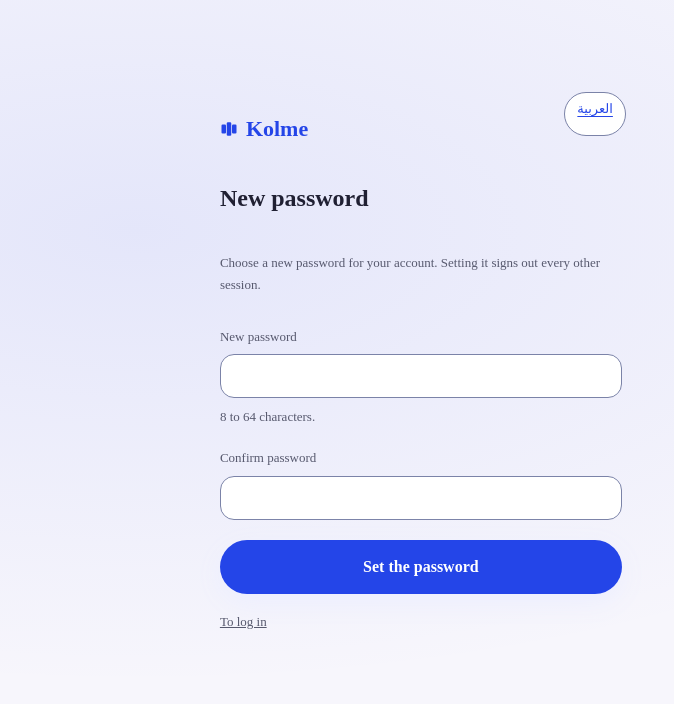
it: ResetPasswordScreen › reads a 400 as an invalid or expired link
This screenshot has width=674, height=704.
Type "longpassword1" into the password field labelled "New password" at (421, 376), box [220,354,622,398]
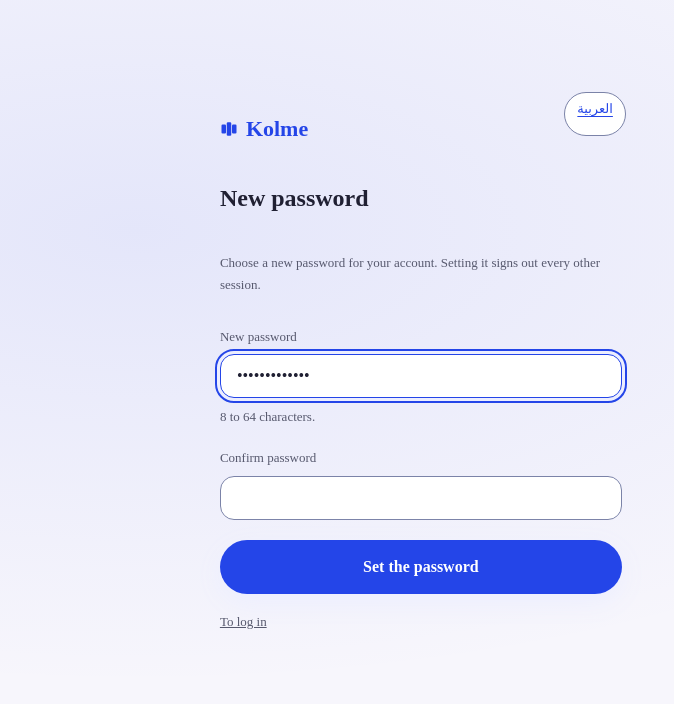
Type "longpassword1" into the password field labelled "Confirm password" at (421, 498), box [220,476,622,520]
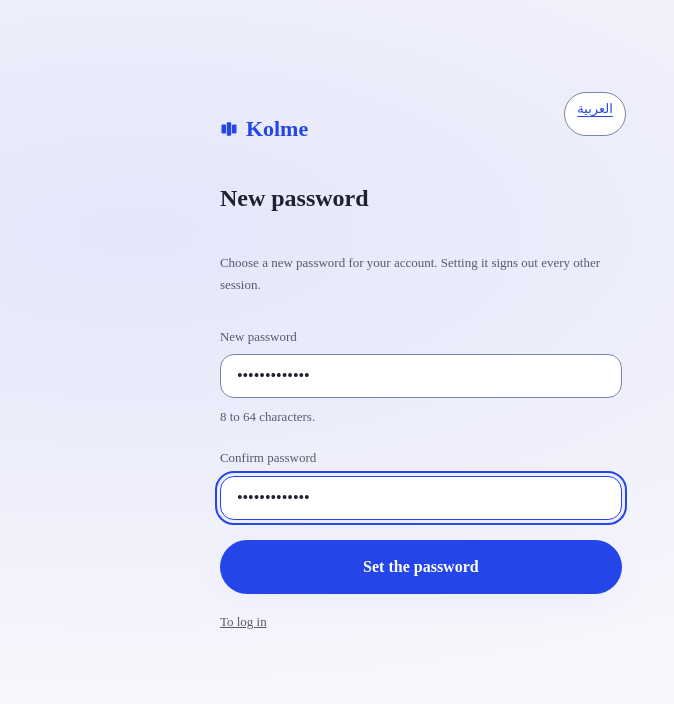
Click the button "Set the password" at (421, 567), box [220,540,622,594]
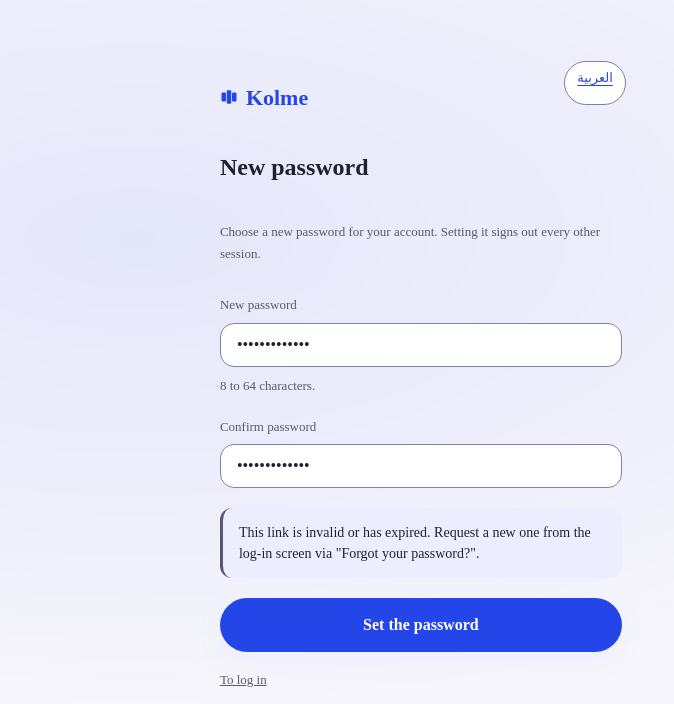
Expected: the button "Set the password" is shown, [220,598,622,652]
Now the message shows "invalid or has expired", box [239,525,591,561]
